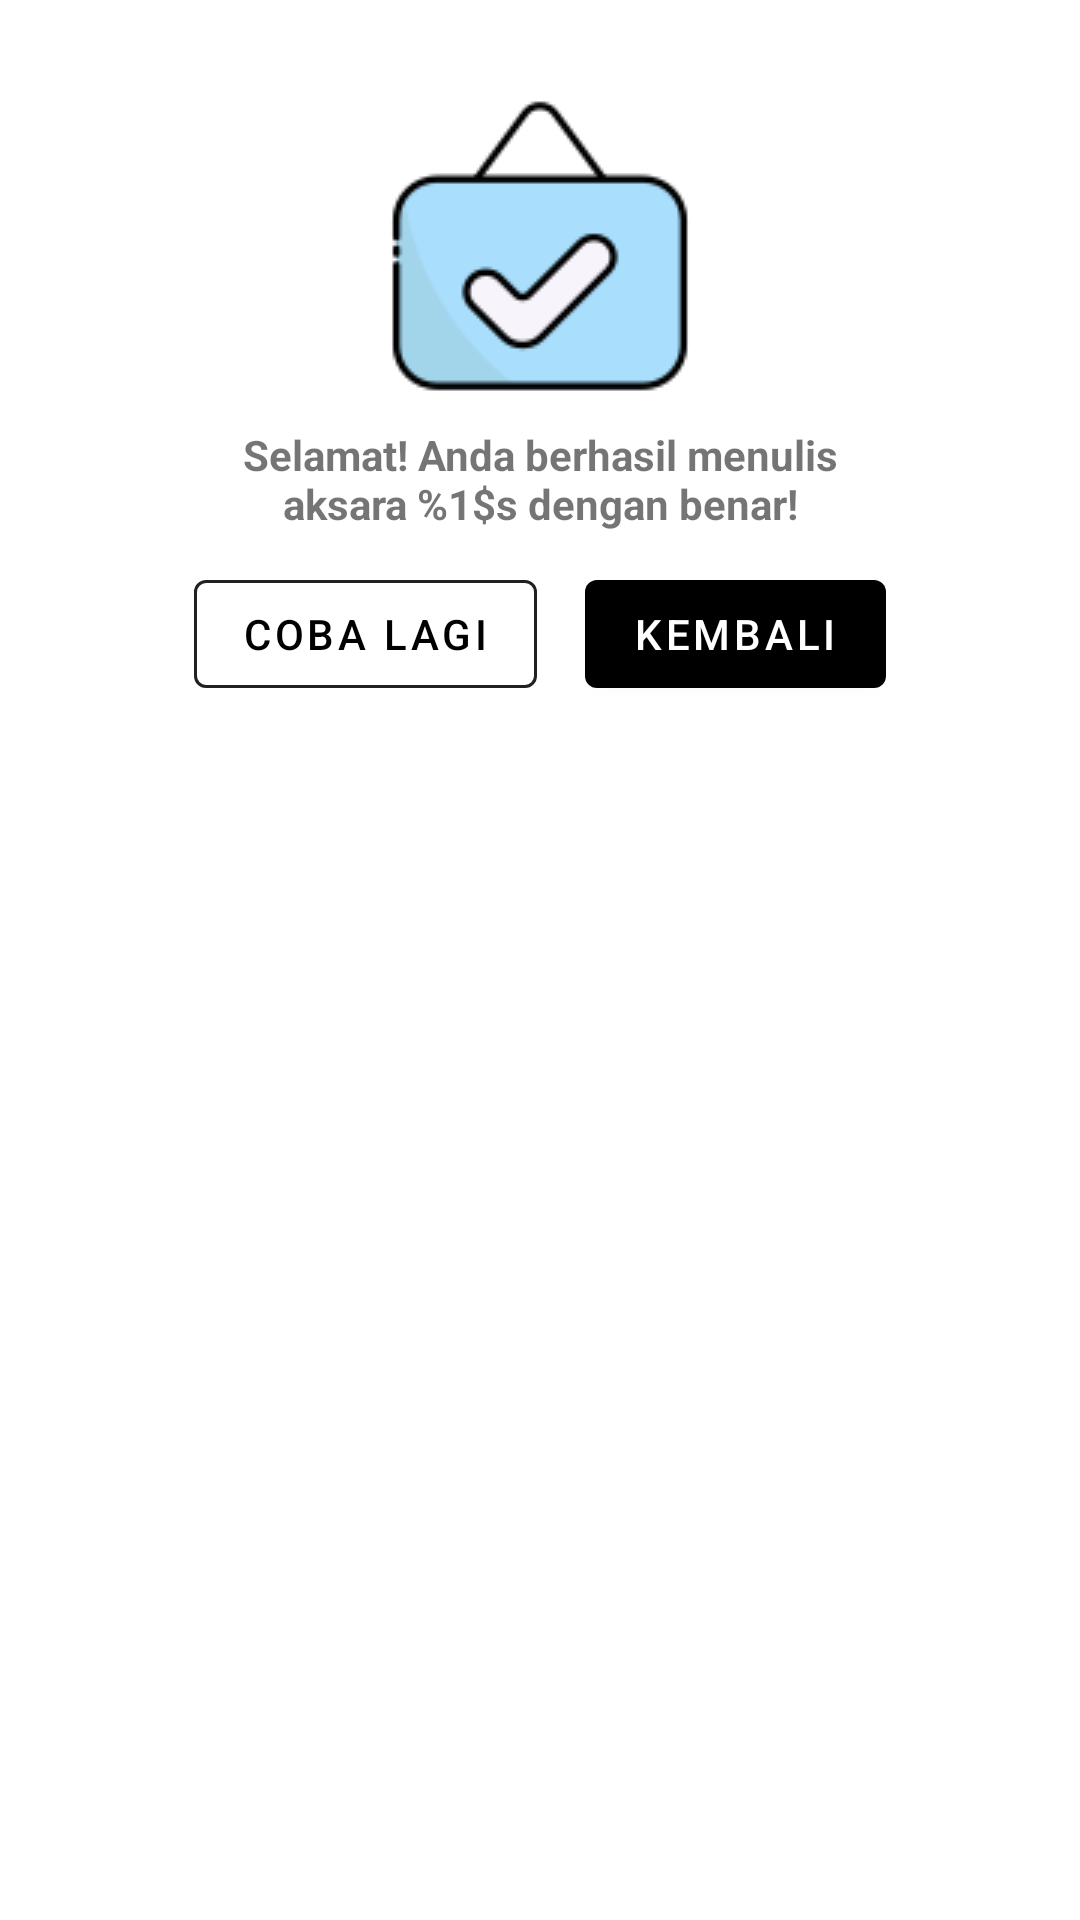

Icon click points for this 1080×1920 phone screenshot, format point (x, y):
Signboard benar: point (540, 246)
